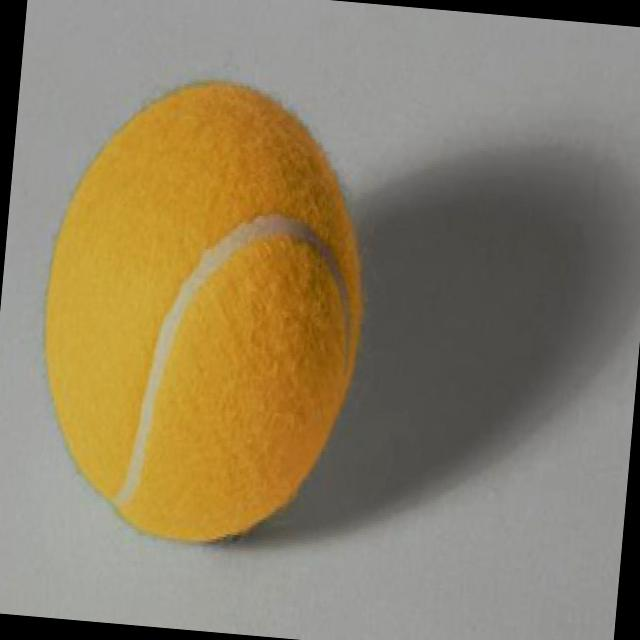Tennis Ball: (41, 82, 365, 545)
